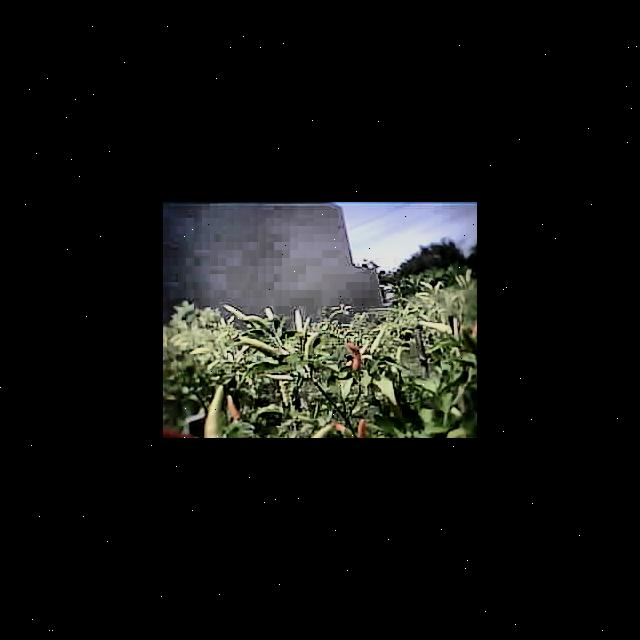Cabai: (344, 343, 365, 370), (356, 414, 372, 438)
